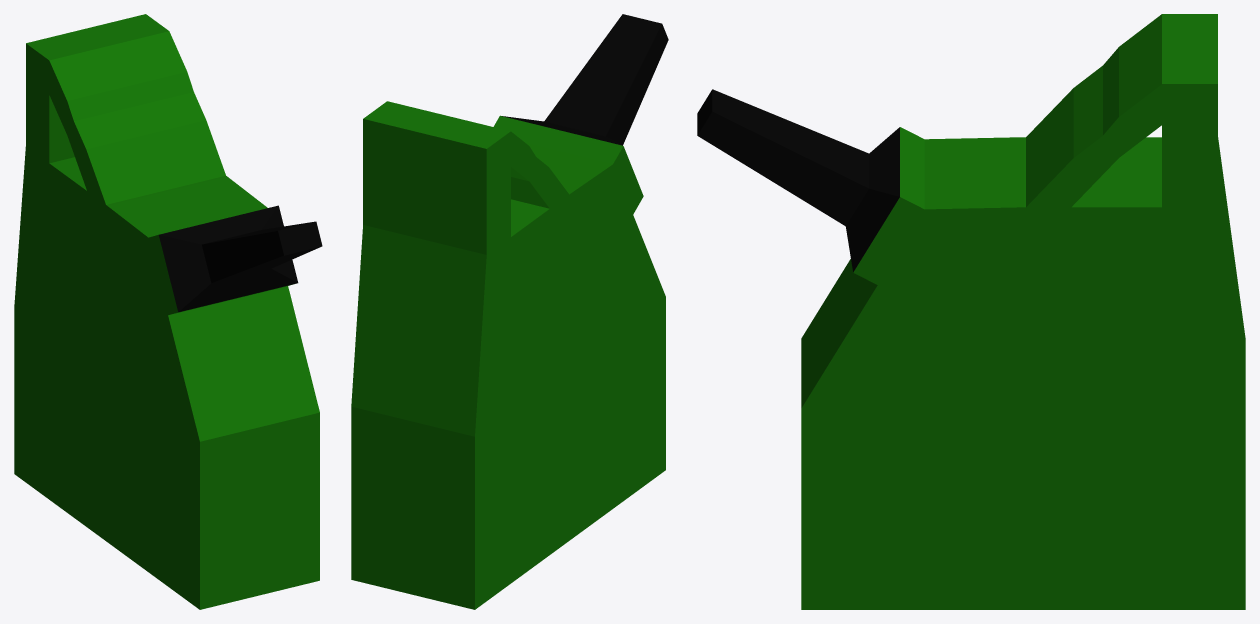
The model's file is Fuel Fast.fbx.
3 renders of one model, left to right at view 1: azimuth 30°, elevation 25°; view 2: azimuth 150°, elevation 25°; view 3: azimuth 270°, elevation 25°, orthographic. The views are drawn at different scales.
Visible parts, largest first — view 1: Cube, Cube.001; view 2: Cube, Cube.001; view 3: Cube, Cube.001.
Boxes of the visible parts, x1,y1,x2,y2 form: Cube: (14,14,319,609); Cube.001: (159,205,322,312); Cube: (351,101,665,609); Cube.001: (502,14,668,145); Cube: (801,14,1245,609); Cube.001: (697,89,899,272).
Size of the model in its own units: 74.72 by 261 by 247.
